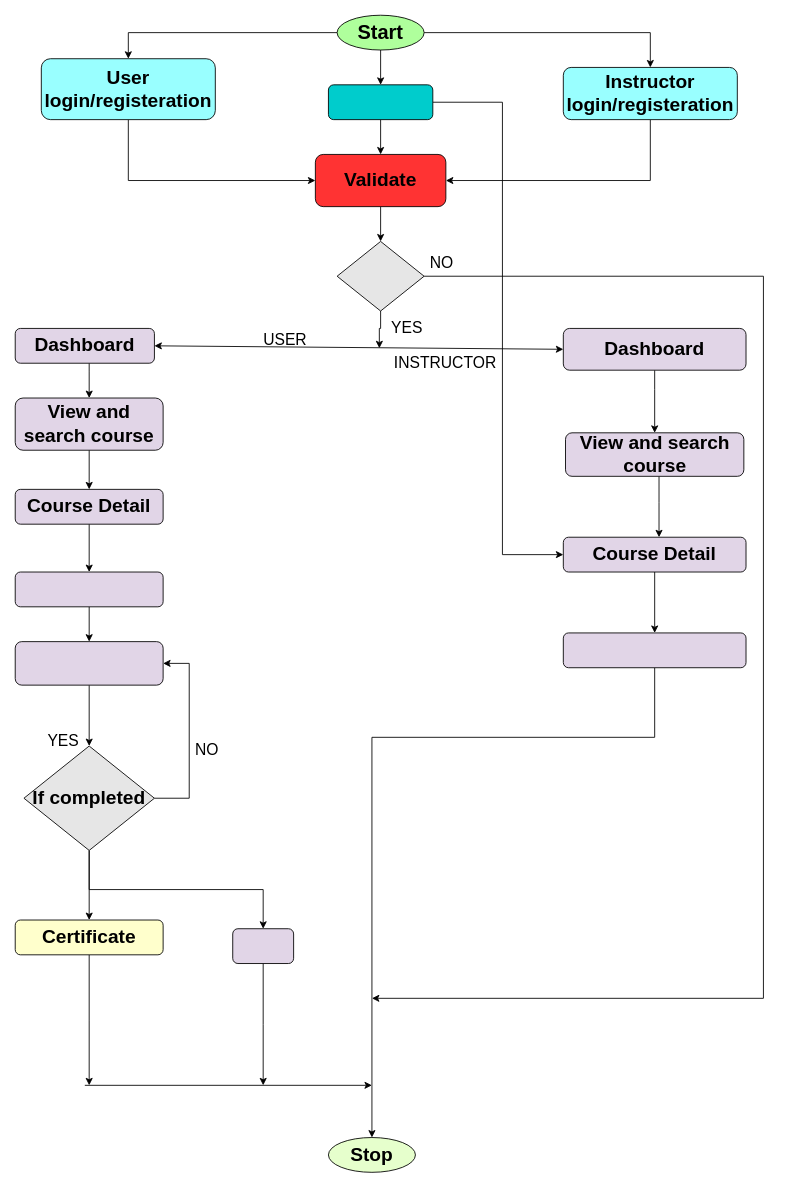
Some shapes in this 786 by 1188 pixel diagram are drawn without their labels. Here are the shapes that lost their labels. From the top down, the box of each, then its label:
(328, 84, 433, 120): Admin
(336, 241, 424, 311): If ok
(14, 571, 163, 607): Register
(14, 641, 163, 685): Course completion
(562, 632, 746, 668): Action
(232, 928, 294, 964): Rate
